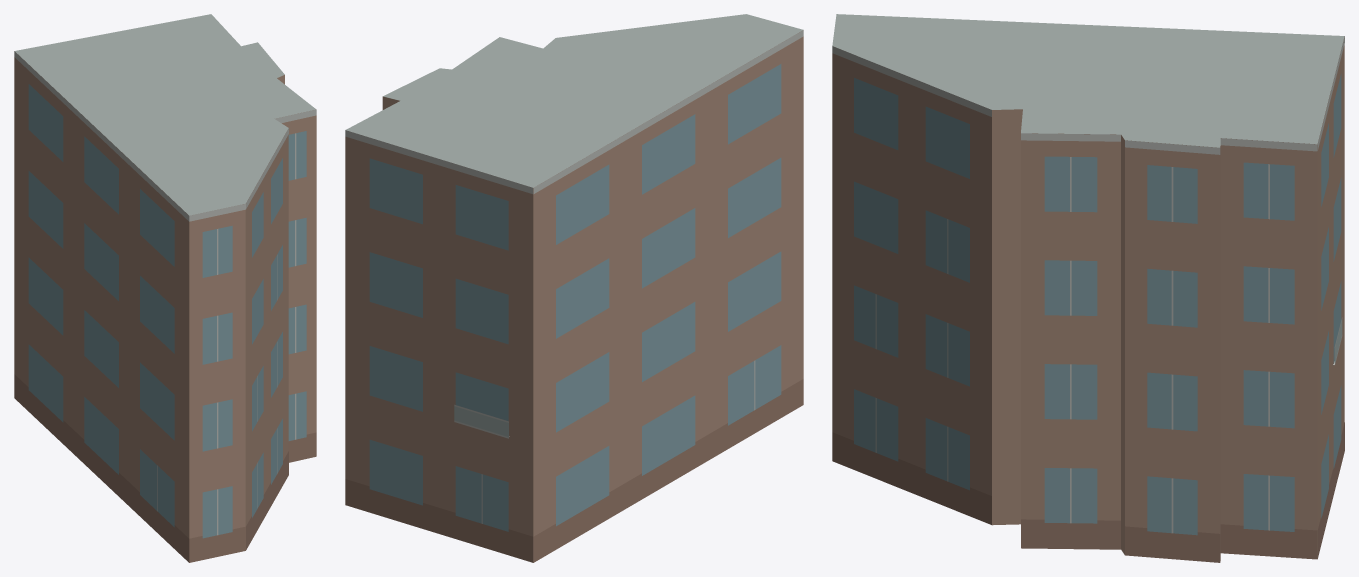
The model's file is survey-upis-33044338.glb.
The picture shows the model from 3 angles, left to right: view 1: azimuth 30°, elevation 25°; view 2: azimuth 150°, elevation 25°; view 3: azimuth 270°, elevation 25°; orthographic projection. The views are drawn at different scales.
Parts seen in each view (by area): view 1: survey-upis-33044338.tmp; view 2: survey-upis-33044338.tmp; view 3: survey-upis-33044338.tmp.
Part boxes in pixels (bbox=[...]): survey-upis-33044338.tmp: bbox=[14, 14, 316, 562]; survey-upis-33044338.tmp: bbox=[345, 14, 803, 562]; survey-upis-33044338.tmp: bbox=[832, 14, 1344, 562].
Size of the model in its own units: 9.75 by 14.1 by 15.78.
